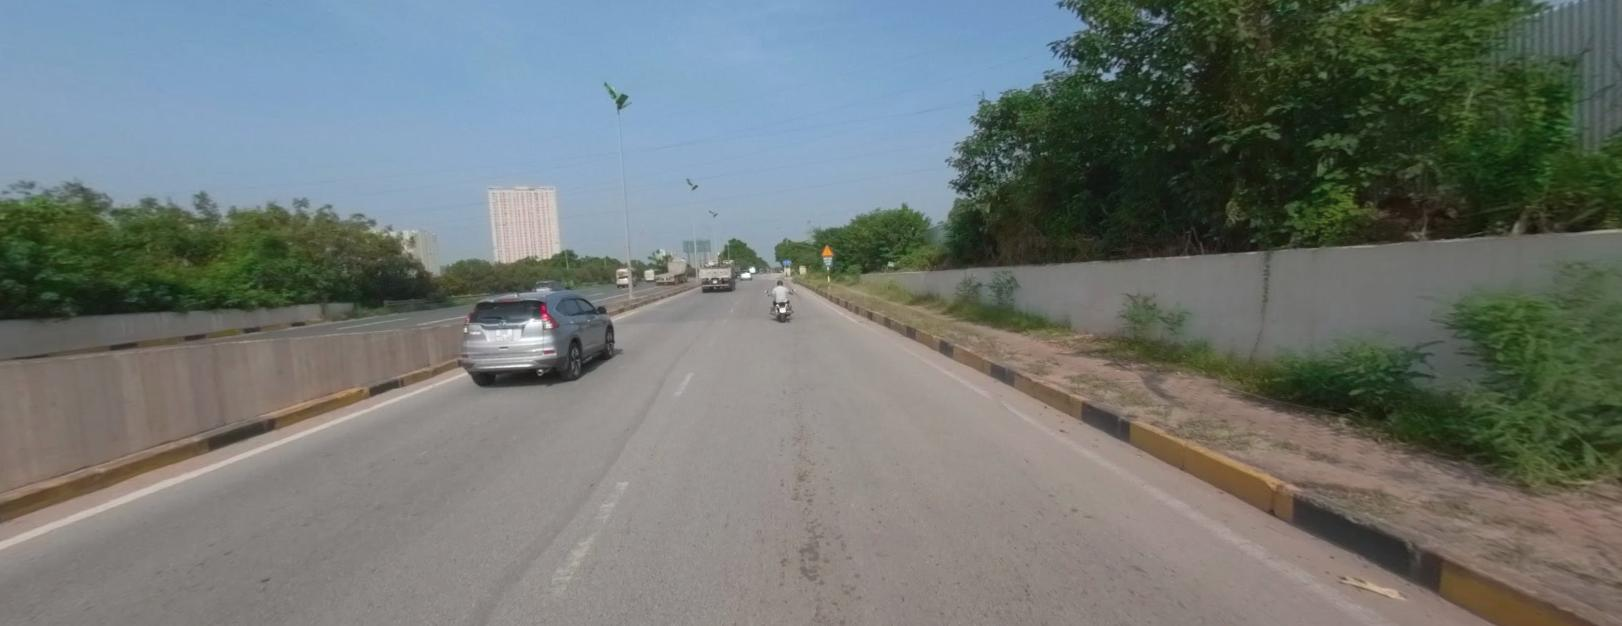Nguy hiem: (819, 242, 833, 254)
